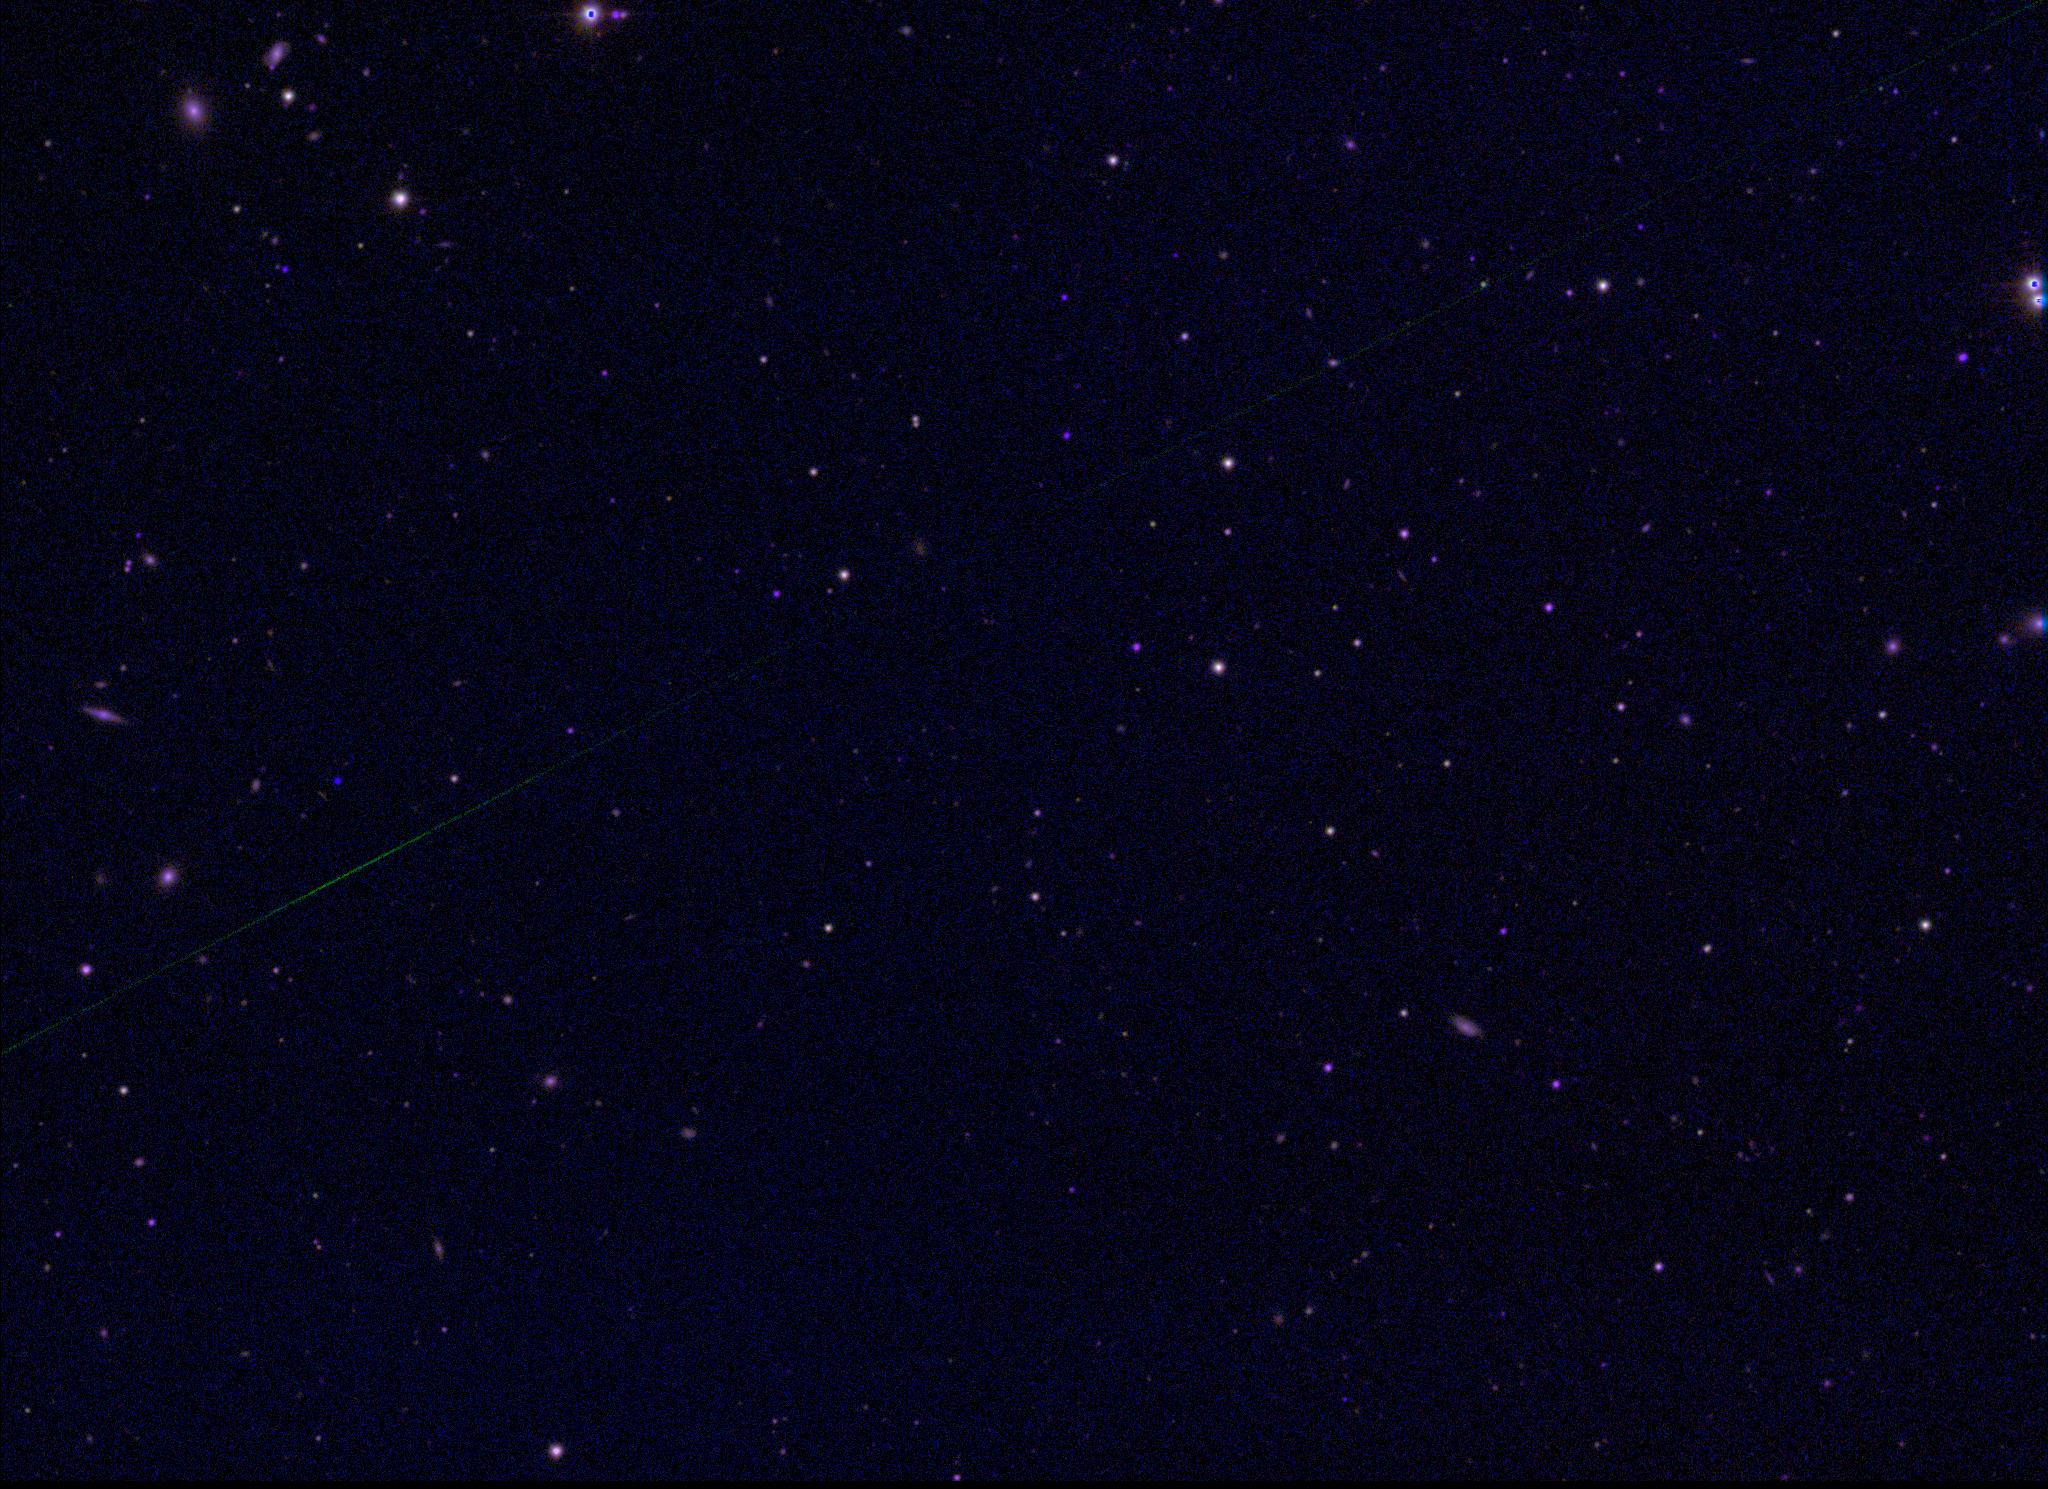L: (328, 772, 342, 784)
